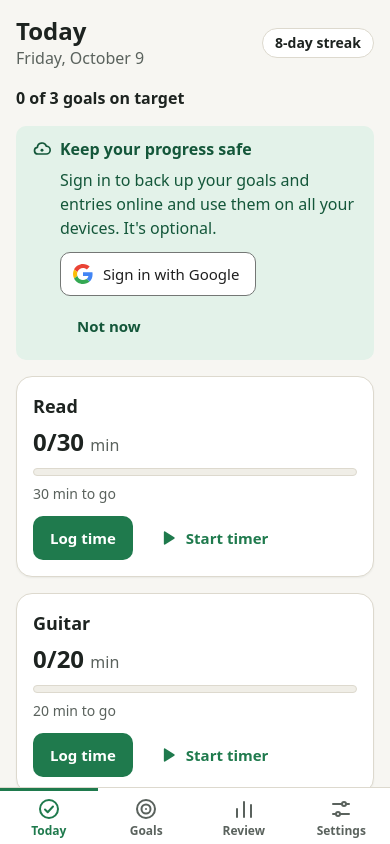
Test case: Today — LoginPromptBanner (FR-52, M8-AC2, DESIGN S1/F14/8.1) › "Not now": banner gone, toast, focus on the h1, kv loginPrompt dismissCount 1, BackupBanner takes its place
Expected: the element with test id "login-prompt-banner" is shown, [16,126,374,360]
Click the button "Not now" at (109, 326), box [60,304,158,348]
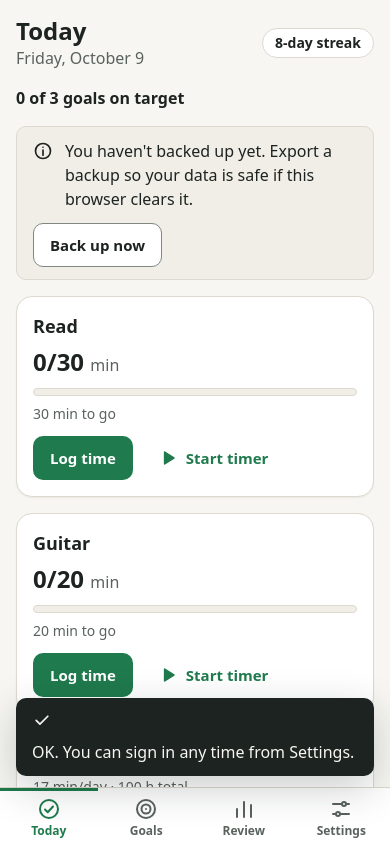
Expected: the element with test id "login-prompt-banner" is gone
Expected: the element with test id "toast" reads "OK. You can sign in any time from Settings.", [32,741,354,763]
Expected: the element with test id "backup-banner" is shown, [16,126,374,280]
